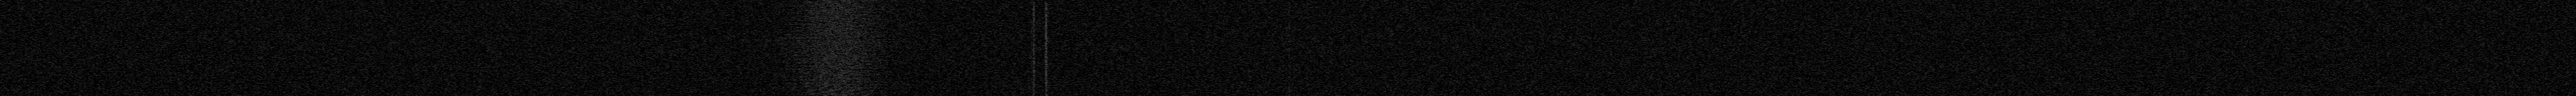wv_am: (1288, 0, 1291, 96)
wv_lsb: (1030, 2, 1035, 96)
wv_usb: (1043, 2, 1050, 96)
wv_wbfm: (751, 0, 920, 96)
